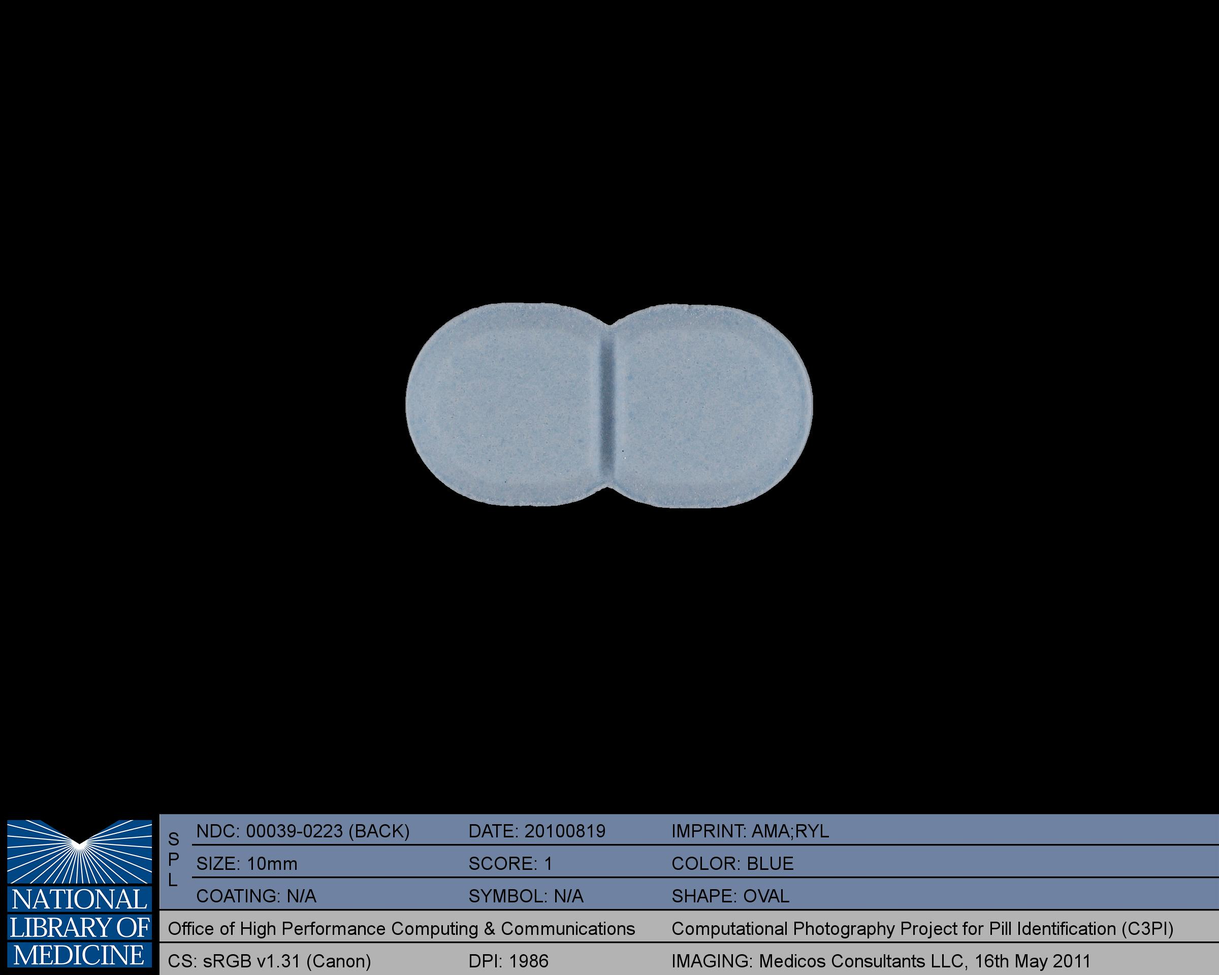Pill: (378, 284, 823, 531)
